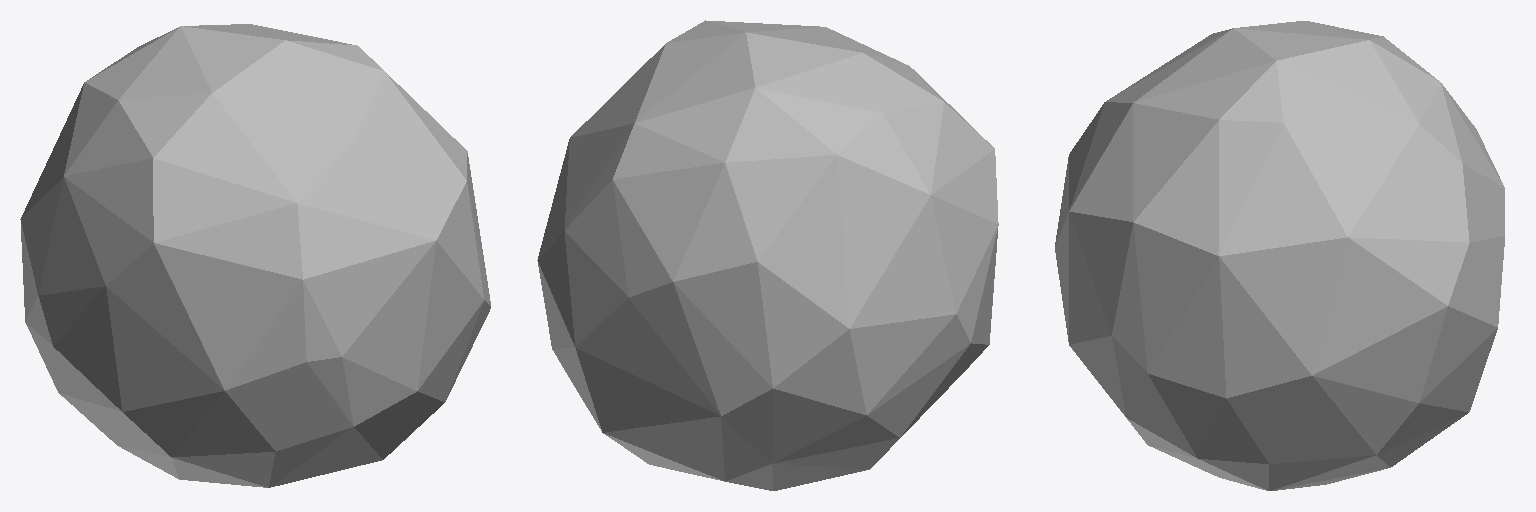
URDF robot description (root):
<robot name="root">
  <link name="link_ycb~mini_soccer_ball_convex_piece_0">
    <inertial>
      <origin rpy="0 0 0" xyz="0 0 0"/>
      <mass value="4.15E+00"/>
      <inertia ixx="7.01E-03" ixy="-3.88E-05" ixz="-9.42E-05" iyy="6.85E-03" iyz="4.59E-06" izz="6.72E-03"/>
    </inertial>
    <visual>
      <origin rpy="0 0 0" xyz="0 0 0"/>
      <geometry>
        <mesh filename="ycb~mini_soccer_ball_convex_piece_0.obj" scale="1.0000E+00 1.0000E+00 1.0000E+00"/>
      </geometry>
      <material name="">
        <color rgba="7.50E-01 7.50E-01 7.50E-01 1"/>
      </material>
    </visual>
    <collision>
      <origin rpy="0 0 0" xyz="0 0 0"/>
      <geometry>
        <mesh filename="ycb~mini_soccer_ball_convex_piece_0.obj" scale="1.0000E+00 1.0000E+00 1.0000E+00"/>
      </geometry>
    </collision>
  </link>
</robot>

--- Render facts (derived) ---
3 views of the same robot in one strip: view 1: azimuth 30°, elevation 25°; view 2: azimuth 150°, elevation 25°; view 3: azimuth 270°, elevation 25° (orthographic).
Model root with 1 links and 0 joints (none), rooted at link_ycb~mini_soccer_ball_convex_piece_0, posed every joint at zero.
Links seen in each view (by area): view 1: link_ycb~mini_soccer_ball_convex_piece_0; view 2: link_ycb~mini_soccer_ball_convex_piece_0; view 3: link_ycb~mini_soccer_ball_convex_piece_0.
Boxes of the visible links, bbox=[...] form: link_ycb~mini_soccer_ball_convex_piece_0: bbox=[20, 24, 490, 487]; link_ycb~mini_soccer_ball_convex_piece_0: bbox=[537, 20, 998, 490]; link_ycb~mini_soccer_ball_convex_piece_0: bbox=[1055, 21, 1504, 490].
Bounding box of the posed robot: 0.1271 × 0.1271 × 0.1291 m (x, y, z).
Meshes: 1 distinct files referenced, 1 mesh visuals loaded (1 OBJ).
